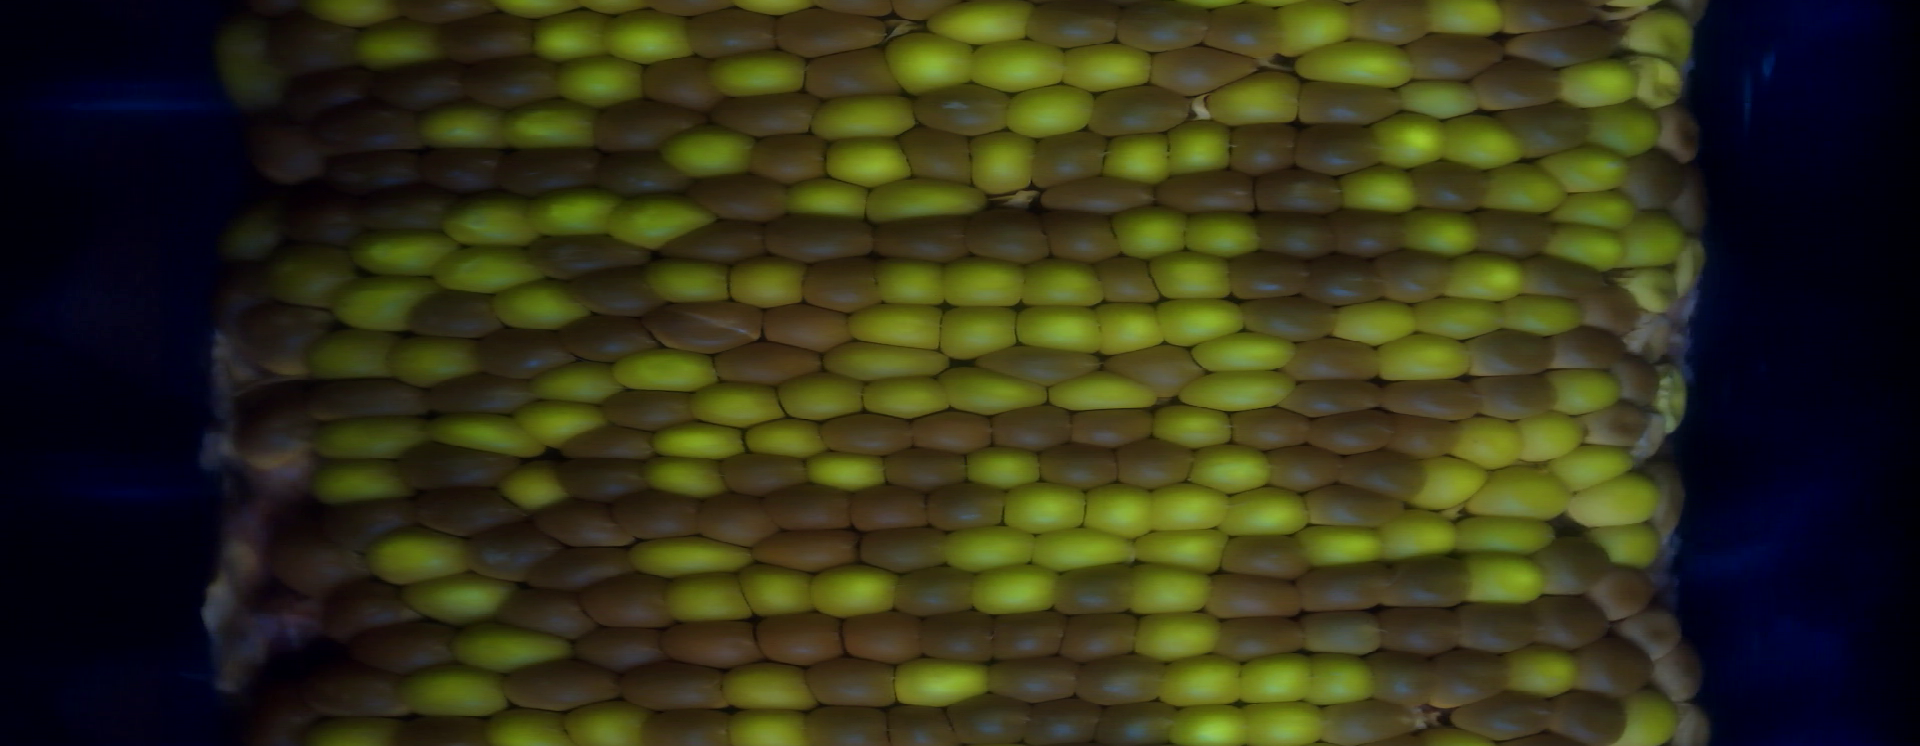fluorescent: (431, 402, 547, 462), (365, 522, 471, 587), (398, 567, 520, 624), (444, 183, 545, 251), (444, 619, 571, 671), (1466, 464, 1576, 524), (1289, 39, 1419, 89), (858, 175, 989, 224), (213, 24, 283, 111), (609, 191, 711, 250), (1558, 472, 1667, 527), (336, 272, 433, 333), (624, 534, 762, 577), (1171, 369, 1298, 414), (400, 666, 509, 719), (887, 29, 978, 92), (845, 298, 947, 354), (312, 414, 435, 461), (553, 53, 654, 109), (613, 345, 720, 398), (269, 239, 350, 307), (1209, 66, 1307, 122), (489, 272, 587, 328), (942, 363, 1051, 413), (928, 1, 1040, 50), (808, 559, 902, 616), (718, 659, 816, 714), (704, 49, 811, 99), (1018, 298, 1108, 356), (1220, 481, 1310, 540), (1145, 477, 1228, 540), (644, 249, 733, 307), (1130, 608, 1220, 666), (820, 339, 950, 380), (382, 334, 481, 387), (662, 122, 749, 183), (691, 374, 787, 428), (1379, 328, 1472, 383), (436, 241, 540, 290), (825, 134, 913, 191), (507, 99, 607, 149), (889, 654, 989, 704), (1412, 293, 1510, 344), (1461, 549, 1547, 608), (661, 571, 757, 624), (976, 34, 1067, 89), (1003, 81, 1091, 137), (1375, 503, 1458, 562), (1446, 412, 1521, 477), (1041, 370, 1157, 412), (775, 370, 867, 423), (304, 457, 410, 502), (1018, 254, 1107, 307), (1058, 45, 1153, 96), (356, 225, 452, 276), (858, 372, 954, 423), (1000, 481, 1087, 537), (1236, 695, 1329, 746), (1450, 511, 1561, 554), (1129, 557, 1209, 617), (1191, 330, 1297, 375), (812, 96, 920, 140), (1129, 523, 1226, 572), (1151, 293, 1250, 341), (607, 6, 693, 61), (1026, 529, 1136, 572), (738, 557, 817, 617), (1158, 653, 1245, 707), (531, 356, 620, 409), (969, 563, 1063, 612), (1442, 113, 1523, 169), (1150, 398, 1238, 450), (354, 17, 440, 70), (640, 451, 730, 501), (1487, 160, 1570, 214), (531, 186, 618, 238), (939, 301, 1020, 356), (1586, 98, 1663, 156), (1540, 143, 1631, 192), (1375, 109, 1446, 171), (730, 255, 812, 309), (528, 9, 613, 60), (1150, 246, 1229, 301), (1234, 650, 1314, 706), (651, 416, 751, 461), (1112, 201, 1188, 258), (868, 251, 945, 307), (942, 256, 1026, 307), (782, 171, 871, 220), (1620, 208, 1689, 271), (1539, 220, 1622, 272), (1333, 296, 1425, 343), (956, 443, 1046, 491), (1100, 132, 1178, 186), (1194, 443, 1272, 497), (1551, 440, 1640, 488), (1081, 481, 1156, 538), (500, 454, 576, 510), (1540, 366, 1624, 416), (1417, 454, 1488, 513), (1305, 646, 1378, 703), (1091, 299, 1164, 355), (1631, 2, 1693, 69), (419, 104, 509, 149), (803, 446, 891, 492), (1297, 518, 1382, 566), (940, 523, 1036, 566), (1182, 208, 1262, 258), (1342, 160, 1416, 216), (1496, 292, 1583, 338), (1166, 699, 1251, 746), (524, 398, 609, 445), (742, 416, 830, 461), (560, 698, 640, 746), (970, 127, 1029, 192), (1614, 688, 1680, 746), (1278, 1, 1351, 54), (312, 328, 387, 379), (1515, 414, 1587, 465), (1512, 643, 1576, 701), (1446, 254, 1521, 303), (1404, 207, 1476, 258), (218, 206, 287, 258), (1556, 60, 1633, 107), (1594, 518, 1663, 570), (729, 706, 812, 746), (1558, 187, 1646, 225), (1400, 76, 1482, 116), (1626, 53, 1686, 107), (482, 707, 564, 746), (1171, 119, 1228, 174), (1622, 266, 1680, 312), (1670, 174, 1713, 235), (309, 719, 400, 746), (1656, 363, 1690, 431), (1675, 244, 1708, 303)
nonfluorescent: (217, 501, 287, 614), (234, 303, 329, 379), (640, 298, 763, 355), (231, 381, 313, 467), (749, 601, 850, 668), (768, 2, 893, 55), (502, 657, 621, 710), (302, 659, 409, 719), (582, 566, 675, 633), (493, 579, 591, 643), (971, 341, 1103, 387), (468, 323, 579, 379), (396, 441, 527, 488), (803, 650, 902, 712), (618, 661, 733, 714), (525, 230, 662, 274), (1104, 343, 1209, 401), (1150, 43, 1262, 96), (409, 488, 527, 538), (758, 212, 880, 260), (1086, 83, 1194, 137), (800, 47, 907, 100), (261, 16, 361, 73), (435, 9, 535, 66), (1205, 566, 1307, 622), (244, 659, 312, 742), (688, 167, 791, 222), (310, 379, 435, 424), (708, 334, 820, 385), (1294, 73, 1403, 125), (910, 78, 1011, 134), (1455, 687, 1558, 741), (749, 526, 862, 575), (560, 311, 666, 363), (493, 145, 602, 195), (697, 488, 778, 555), (530, 497, 636, 549), (962, 203, 1051, 265), (868, 214, 981, 262), (1429, 650, 1518, 710), (1294, 561, 1391, 616), (688, 6, 782, 62), (758, 298, 852, 354), (658, 218, 771, 265), (1292, 120, 1384, 178), (360, 619, 458, 673), (425, 371, 538, 418), (591, 97, 698, 146), (1025, 127, 1112, 187), (889, 563, 983, 619), (816, 409, 923, 457), (252, 107, 321, 181), (1338, 443, 1425, 502), (1620, 146, 1686, 223), (596, 145, 691, 198), (1040, 171, 1161, 213), (1114, 1, 1215, 51), (1302, 481, 1402, 532), (1477, 54, 1562, 113), (320, 495, 418, 546), (667, 616, 765, 668), (920, 477, 1009, 533), (905, 120, 980, 187), (1151, 167, 1256, 214), (1218, 530, 1318, 581), (572, 624, 671, 674), (462, 55, 558, 107), (1236, 293, 1340, 341), (839, 608, 931, 661), (1310, 246, 1389, 309), (986, 402, 1076, 456), (1199, 4, 1287, 59), (1403, 32, 1502, 81), (562, 265, 661, 314), (1051, 562, 1139, 617), (1577, 633, 1651, 699), (405, 287, 500, 338), (471, 519, 547, 583), (1387, 551, 1473, 608), (1472, 370, 1561, 424), (1076, 653, 1166, 707), (1507, 98, 1586, 159), (1460, 330, 1558, 379), (982, 654, 1078, 704), (324, 146, 418, 197), (853, 523, 947, 575), (1371, 376, 1483, 419), (615, 488, 705, 540), (1373, 601, 1463, 654), (324, 97, 409, 153), (1038, 206, 1123, 262), (1379, 244, 1453, 307), (707, 92, 820, 134), (1509, 24, 1625, 65), (1281, 372, 1387, 416), (1473, 205, 1556, 261), (1368, 646, 1440, 710), (1284, 334, 1382, 382), (413, 145, 503, 196), (1544, 686, 1621, 746), (1304, 408, 1398, 457), (1408, 160, 1489, 217), (1215, 612, 1303, 664), (1297, 606, 1382, 659), (1534, 535, 1607, 598), (1036, 439, 1119, 492), (945, 691, 1026, 746), (747, 130, 825, 186), (800, 257, 878, 314), (324, 579, 398, 639), (277, 537, 351, 595), (1026, 2, 1120, 49), (600, 386, 694, 432), (920, 606, 999, 661), (1251, 167, 1341, 216), (884, 443, 973, 492), (547, 456, 649, 499), (1114, 435, 1191, 491), (1321, 695, 1414, 741), (718, 450, 808, 497), (1518, 247, 1597, 303), (1461, 599, 1534, 657), (1529, 597, 1608, 650), (1325, 207, 1407, 258), (773, 481, 852, 534), (1229, 249, 1313, 299), (847, 483, 931, 533), (1265, 443, 1349, 492), (206, 268, 276, 327), (1228, 120, 1300, 176), (907, 412, 999, 456), (366, 187, 451, 235), (288, 198, 367, 249), (542, 540, 636, 583), (377, 62, 467, 107), (640, 54, 715, 107), (561, 424, 658, 464), (1641, 462, 1682, 555), (1542, 325, 1622, 372), (1382, 407, 1452, 461), (1229, 404, 1310, 451), (1097, 698, 1176, 746), (1022, 698, 1101, 746), (1054, 612, 1138, 657), (882, 699, 961, 745), (1065, 407, 1151, 448), (987, 611, 1060, 659), (1597, 560, 1657, 617), (1651, 107, 1708, 167), (1260, 213, 1335, 258), (1582, 403, 1652, 451), (1620, 603, 1676, 661), (1098, 254, 1158, 309), (1577, 282, 1640, 332), (1657, 643, 1703, 708), (211, 620, 253, 690), (396, 720, 487, 746), (1618, 356, 1660, 408)
